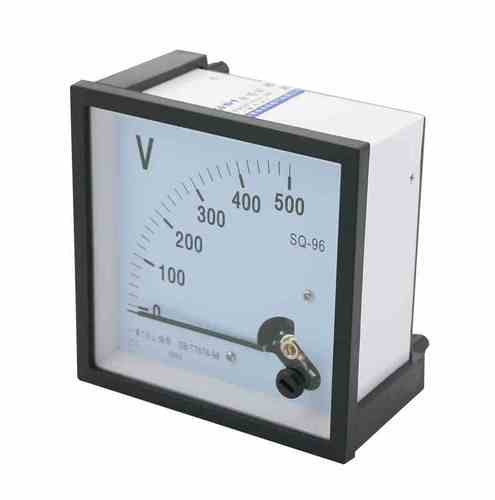pointer: (78, 100, 344, 447)
